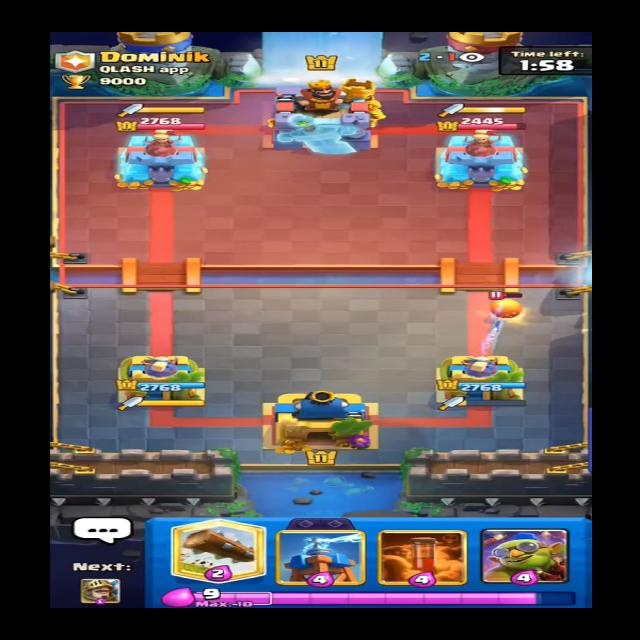Pheonixegg: (486, 290, 524, 321)
